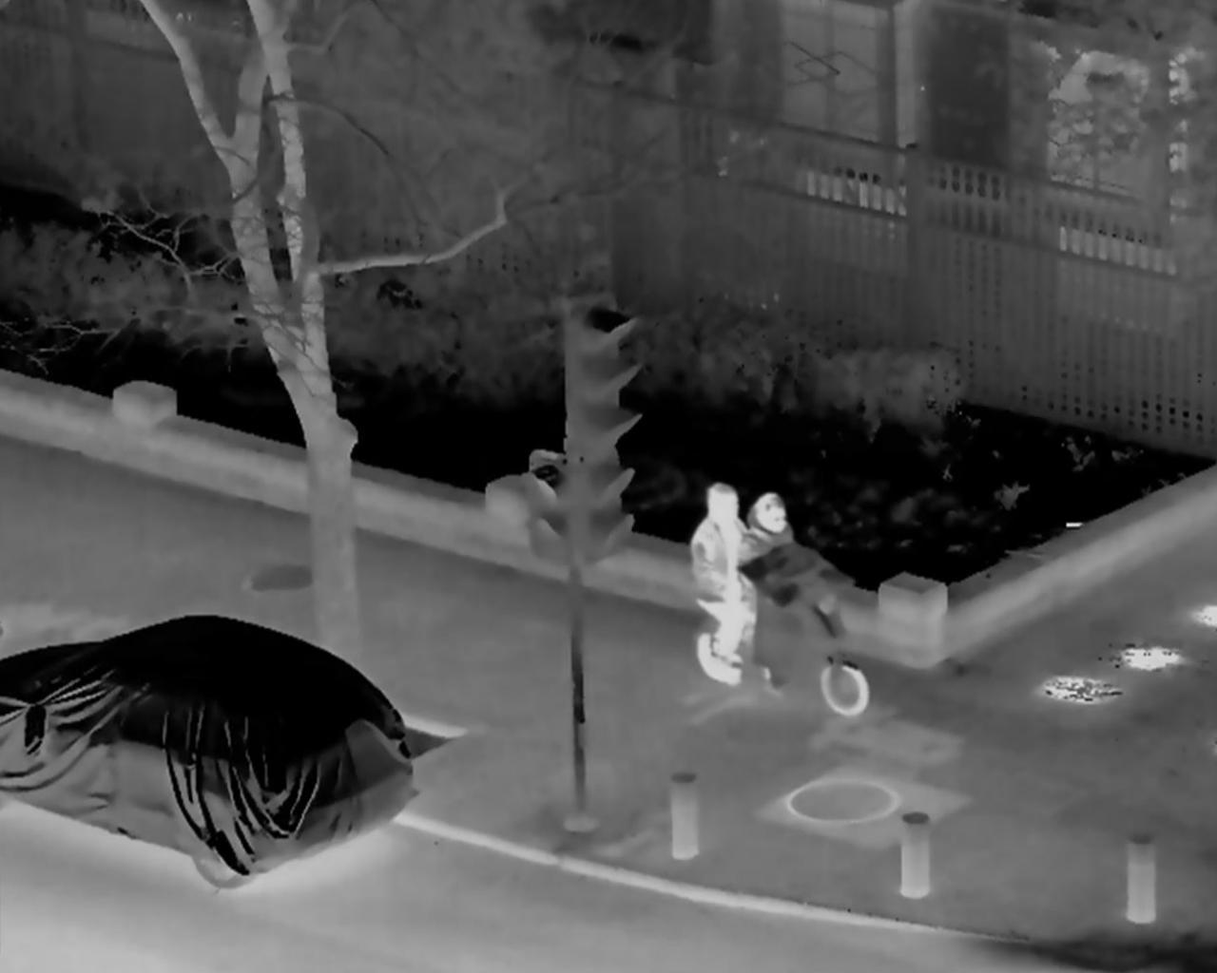person: (740, 491, 847, 671), (687, 480, 767, 669)
